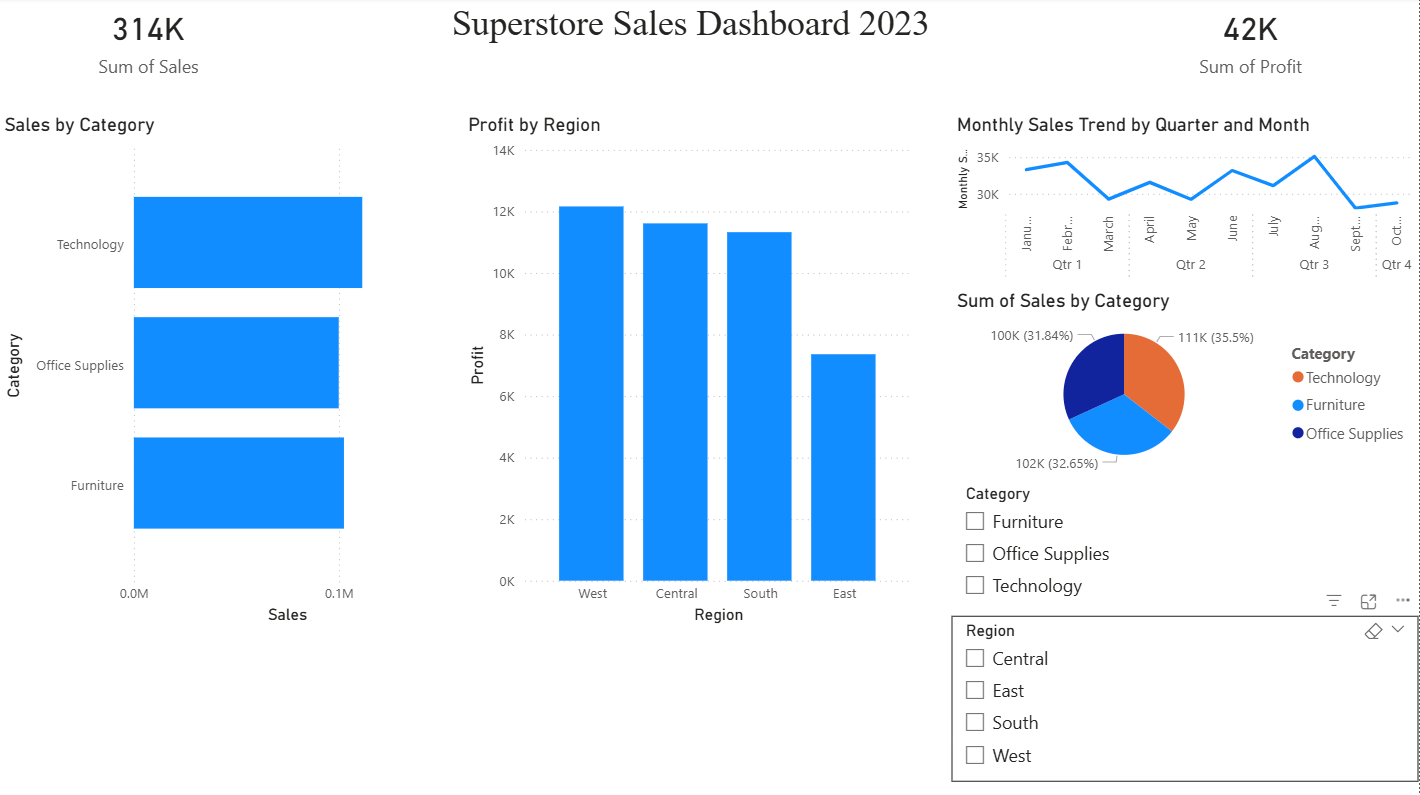

What the dashboard file says about the page in this screenshot:
{"tool":"powerbi","page":{"name":"Page 1","canvas":[1280,720],"ordinal":0},"visuals":[{"type":"clusteredBarChart","fields":{"Category":["superstore_sales_dataset.Category"],"Y":["Sum(superstore_sales_dataset.Sales)"]},"box":[0,104.8,418.2,465.5],"z":0},{"type":"clusteredColumnChart","fields":{"Category":["superstore_sales_dataset.Region"],"Y":["Sum(superstore_sales_dataset.Profit)"]},"box":[418.2,104.8,410.3,465.5],"z":1000},{"type":"lineChart","fields":{"Category":["superstore_sales_dataset.Order Date.Variation.Date Hierarchy.Quarter","superstore_sales_dataset.Order Date.Variation.Date Hierarchy.Month","superstore_sales_dataset.Order Date.Variation.Date Hierarchy.Day"],"Y":["Sum(superstore_sales_dataset.Sales)"]},"box":[858.9,104.8,421.5,158.9],"z":2000},{"type":"slicer","fields":{"Values":["superstore_sales_dataset.Category"]},"box":[858.9,433.9,421.5,124],"z":3000},{"type":"card","fields":{"Values":["Sum(superstore_sales_dataset.Sales)"]},"box":[0,0,270,75],"z":4000},{"type":"card","fields":{"Values":["Sum(superstore_sales_dataset.Profit)"]},"box":[976.7,0,303.3,75],"z":5000},{"type":"textbox","box":[270,0,706.7,75],"z":6000},{"type":"slicer","fields":{"Values":["superstore_sales_dataset.Region"]},"box":[858.9,557.9,421.5,149.9],"z":7000},{"type":"pieChart","fields":{"Category":["superstore_sales_dataset.Category"],"Y":["Sum(superstore_sales_dataset.Sales)"]},"box":[858.9,263.7,421.5,170.2],"z":8000}]}

Visuals, with their boxes in screenshot pixels (x1, y1, x2, y2), scaled from the page's 1280x720 canvas onto the 1420x795 screenshot:
clusteredBarChart - superstore_sales_dataset.Category x Sum(superstore_sales_dataset.Sales): BBox(0, 116, 464, 630)
clusteredColumnChart - superstore_sales_dataset.Region x Sum(superstore_sales_dataset.Profit): BBox(464, 116, 919, 630)
lineChart - superstore_sales_dataset.Order Date.Variation.Date Hierarchy.Quarter x superstore_sales_dataset.Order Date.Variation.Date Hierarchy.Month: BBox(953, 116, 1419, 291)
slicer - superstore_sales_dataset.Category: BBox(953, 479, 1419, 616)
card - Sum(superstore_sales_dataset.Sales): BBox(0, 0, 300, 83)
card - Sum(superstore_sales_dataset.Profit): BBox(1084, 0, 1419, 83)
textbox: BBox(300, 0, 1084, 83)
slicer - superstore_sales_dataset.Region: BBox(953, 616, 1419, 782)
pieChart - superstore_sales_dataset.Category x Sum(superstore_sales_dataset.Sales): BBox(953, 291, 1419, 479)
